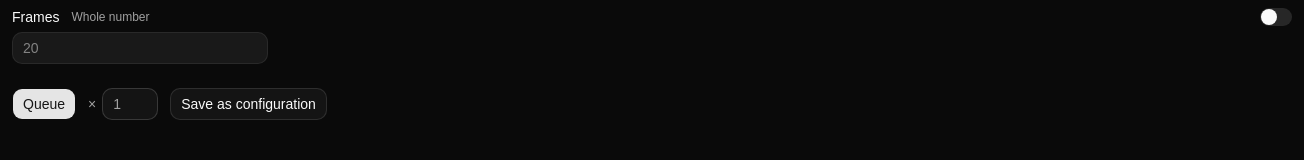
RunForm › brings back a slot's typed text, and its check, when it is switched on again
Click the switch named "Use Frames" at [1276, 17], box [1260, 8, 1292, 26]
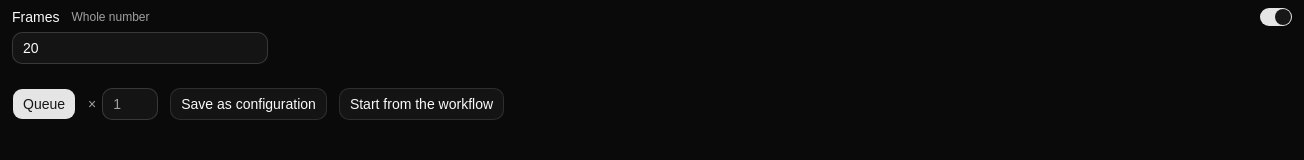
Replace the text in the field labelled "Frames" with "eight" at [140, 48], box [12, 32, 268, 64]
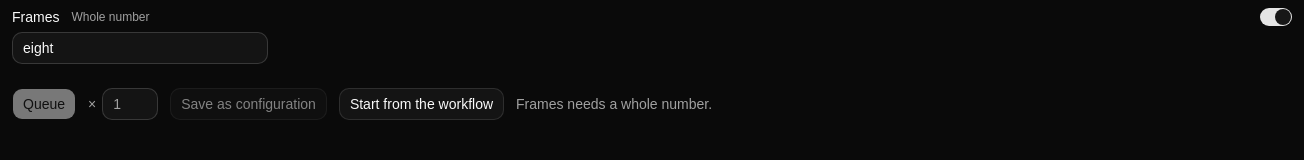
expect the button "Queue" is disabled: met, box [12, 88, 76, 120]
Click the switch named "Use Frames" at [1276, 17], box [1260, 8, 1292, 26]
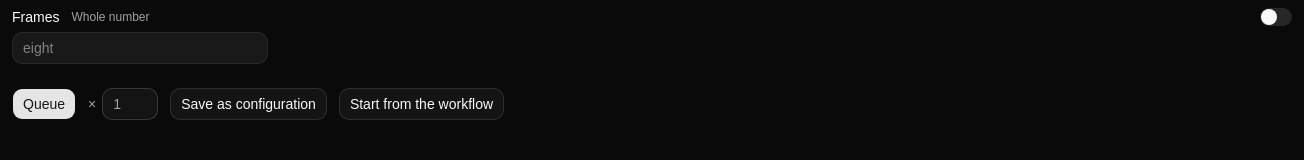
expect the button "Queue" is enabled: met, box [12, 88, 76, 120]
expect the text "Frames needs a whole number." is gone: met
Click the switch named "Use Frames" at [1276, 17], box [1260, 8, 1292, 26]
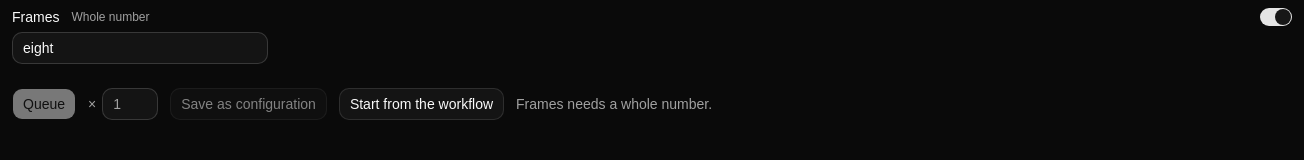
expect the button "Queue" is disabled: met, box [12, 88, 76, 120]
expect the text "Frames needs a whole number." is shown: met, box [516, 94, 712, 114]
